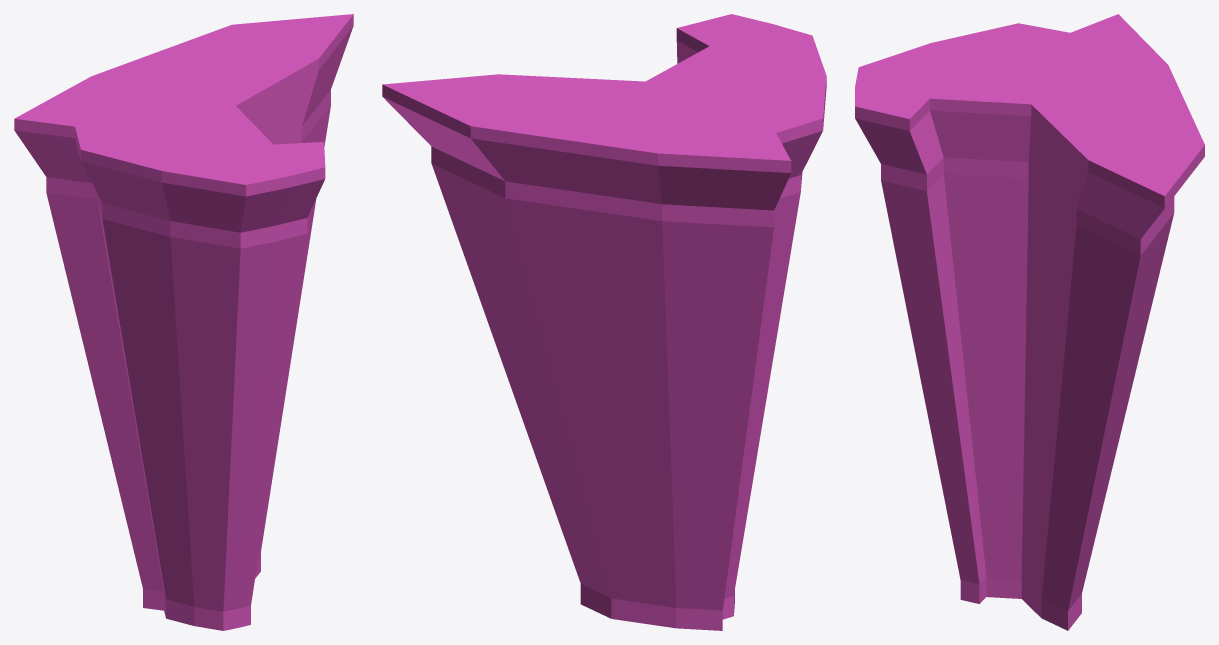
File: CHB.obj
3 views of the same model, side by side, from view 1: azimuth 30°, elevation 25°; view 2: azimuth 150°, elevation 25°; view 3: azimuth 270°, elevation 25° (orthographic). The views are drawn at different scales.
Visible parts, largest first — view 1: CHB; view 2: CHB; view 3: CHB.
Part boxes in pixels (box(x1,y1,x2,y2)): CHB: box(14, 14, 353, 630); CHB: box(382, 14, 826, 630); CHB: box(855, 14, 1204, 630).
Size of the model in its own units: 39.24 by 50.67 by 31.82.
